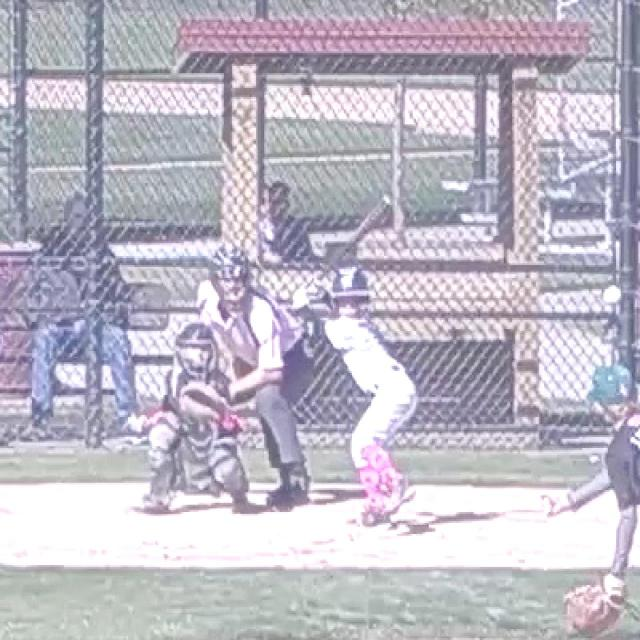baseball: (604, 287, 620, 303)
